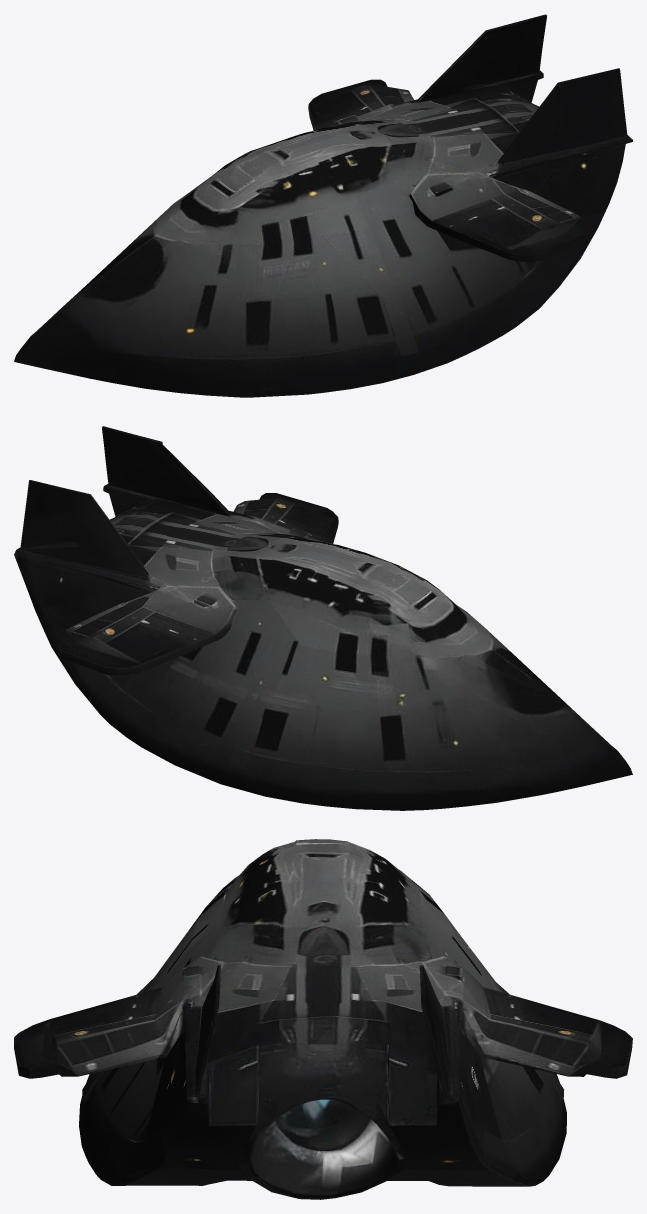
Rendered from nation-q-scout.glb.
The picture shows the model from 3 angles, top to bottom: view 1: azimuth 30°, elevation 25°; view 2: azimuth 150°, elevation 25°; view 3: azimuth 270°, elevation 25°; orthographic projection. The views are drawn at different scales.
Bounding box in the file's own units: 1.9 × 0.6765 × 1.26.
Materials: 1 (1 with a texture image).
